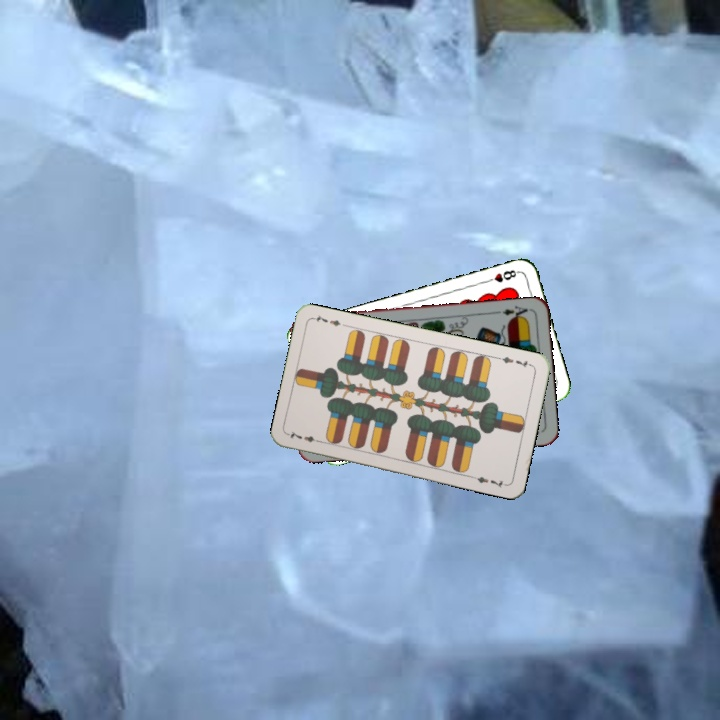E7: (285, 427, 325, 445), (494, 353, 535, 370)
EA: (499, 302, 533, 322)
H8: (482, 266, 521, 285)
